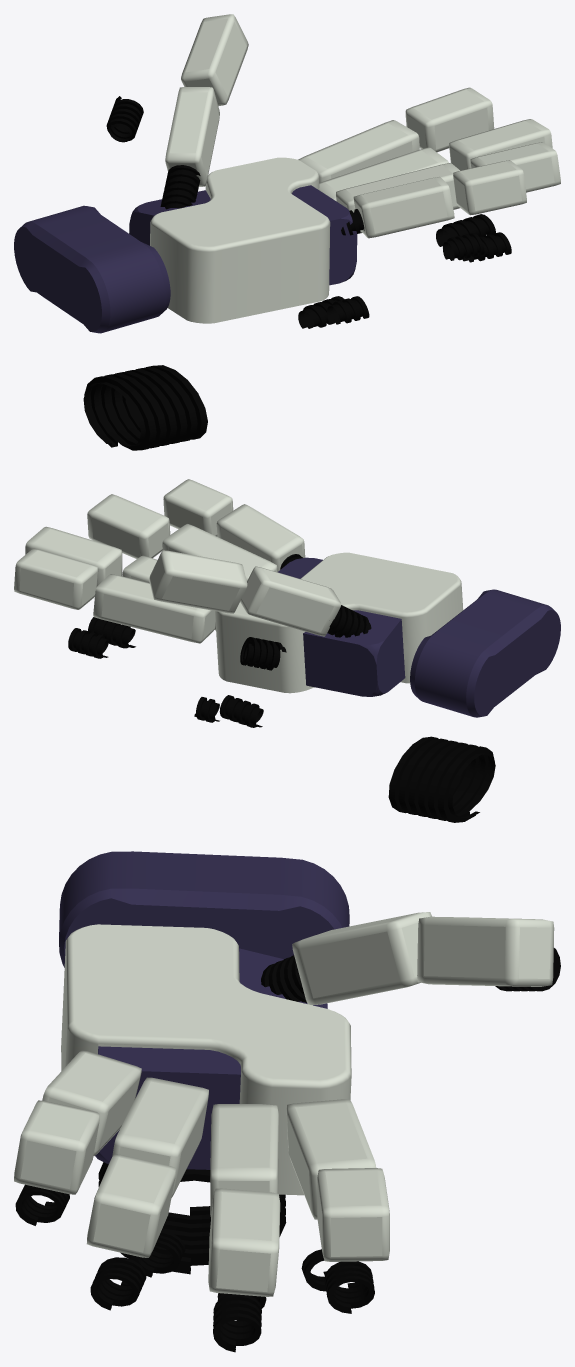
The picture shows the model from 3 angles, top to bottom: view 1: azimuth 30°, elevation 25°; view 2: azimuth 150°, elevation 25°; view 3: azimuth 270°, elevation 25°; orthographic projection. The views are drawn at different scales.
Visible parts, largest first — view 1: Palm, Wrist, TPalm, Pinky1, Thumb2, Index2, Thumb1, Index, Pinky2, Middle2, Ring2, Middle (+8 smaller); view 2: Palm, Wrist, TPalm, Index, Thumb2, Thumb1, Index2, Ring2, Pinky1, Pinky2, Middle2, Ring (+7 smaller); view 3: Palm, Wrist, Thumb2, Thumb1, Middle2, Ring2, Index2, Ring, Pinky2, Middle, Index, Pinky1 (+8 smaller).
Boxes of the visible parts, x1=… form: Palm: x1=129, y1=157, x2=357, y2=323; Wrist: x1=14, y1=205, x2=170, y2=333; TPalm: x1=83, y1=365, x2=207, y2=450; Pinky1: x1=353, y1=177, x2=454, y2=238; Thumb2: x1=181, y1=14, x2=248, y2=106; Index2: x1=405, y1=87, x2=494, y2=152; Thumb1: x1=165, y1=87, x2=219, y2=186; Index: x1=298, y1=120, x2=419, y2=182; Pinky2: x1=453, y1=160, x2=526, y2=215; Middle2: x1=449, y1=119, x2=552, y2=170; Ring2: x1=470, y1=142, x2=560, y2=192; Middle: x1=319, y1=147, x2=448, y2=201; Palm: x1=215, y1=552, x2=463, y2=696; Wrist: x1=410, y1=589, x2=560, y2=717; TPalm: x1=388, y1=736, x2=495, y2=822; Index: x1=93, y1=574, x2=215, y2=643; Thumb2: x1=149, y1=550, x2=247, y2=613; Thumb1: x1=240, y1=566, x2=341, y2=636; Index2: x1=14, y1=548, x2=98, y2=609; Ring2: x1=87, y1=494, x2=170, y2=558; Pinky1: x1=216, y1=504, x2=305, y2=571; Pinky2: x1=163, y1=479, x2=233, y2=536; Middle2: x1=25, y1=526, x2=122, y2=586; Ring: x1=162, y1=524, x2=277, y2=581; Palm: x1=61, y1=924, x2=351, y2=1195; Wrist: x1=59, y1=851, x2=349, y2=967; Thumb2: x1=417, y1=916, x2=554, y2=986; Thumb1: x1=292, y1=912, x2=431, y2=1005; Middle2: x1=208, y1=1188, x2=280, y2=1296; Ring2: x1=86, y1=1154, x2=175, y2=1257; Index2: x1=317, y1=1168, x2=389, y2=1261; Ring: x1=112, y1=1077, x2=208, y2=1197; Pinky2: x1=14, y1=1100, x2=99, y2=1194; Middle: x1=210, y1=1104, x2=278, y2=1217; Index: x1=286, y1=1099, x2=376, y2=1219; Pinky1: x1=42, y1=1050, x2=141, y2=1155.
Bounding box in the file's own units: 8.84e-05 × 8.45e-05 × 0.000146.
